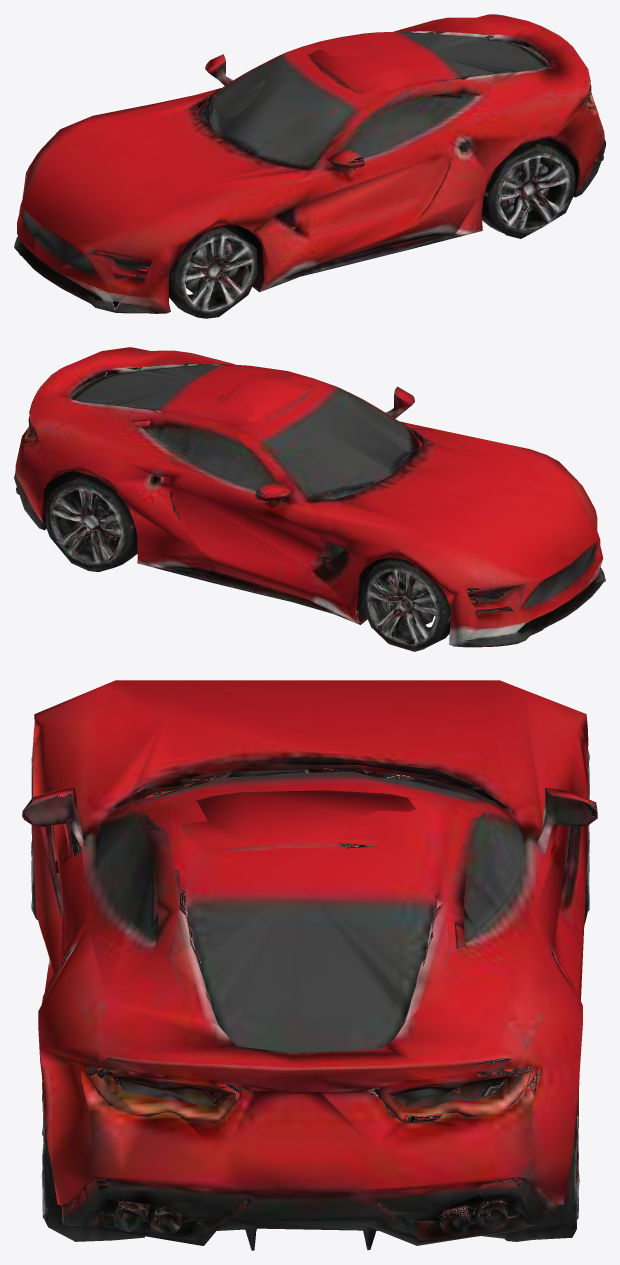
3 renders of one model, top to bottom at view 1: azimuth 30°, elevation 25°; view 2: azimuth 150°, elevation 25°; view 3: azimuth 270°, elevation 25°, orthographic. The views are drawn at different scales.
Size of the model in its own units: 2 by 0.5614 by 0.9417.
Materials: 1 (1 with a texture image).
